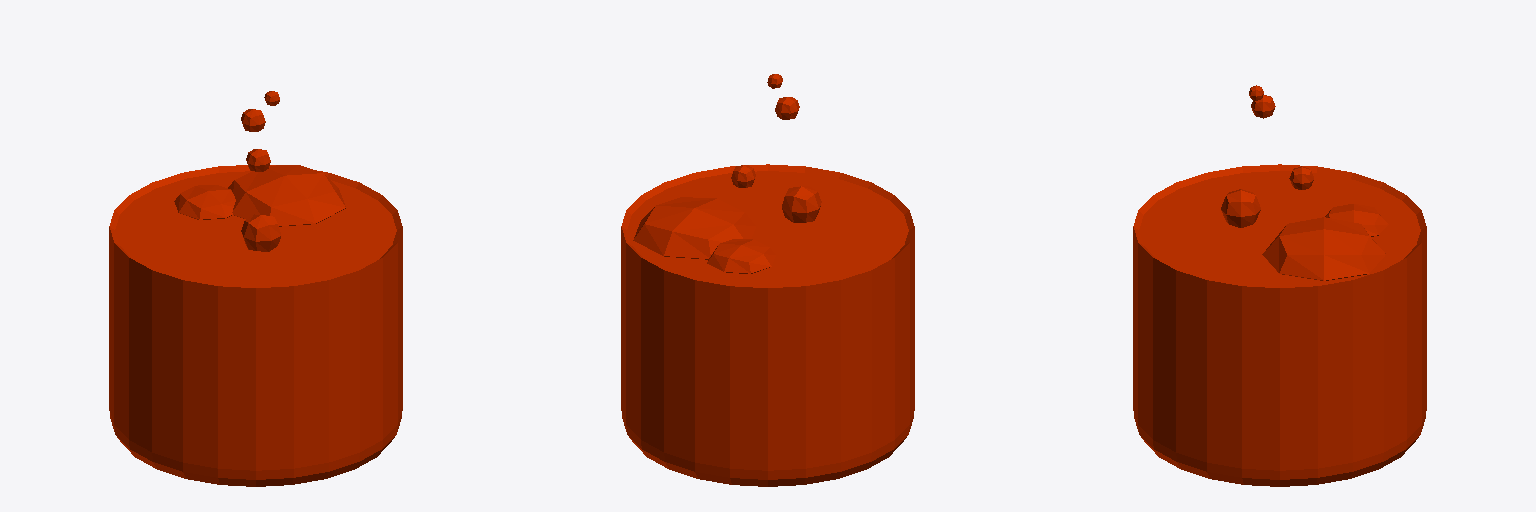
Rendered from Cork-Glass-Bottle-#3.obj.
The picture shows the model from 3 angles: view 1: azimuth 30°, elevation 25°; view 2: azimuth 150°, elevation 25°; view 3: azimuth 270°, elevation 25°; orthographic projection.
Parts seen in each view (by area): view 1: Liquid_Cylinder.002, Cube.003, Cube.005, Cube; view 2: Liquid_Cylinder.002, Cube.003, Cube.005, Cube; view 3: Liquid_Cylinder.002, Cube.003, Cube, Cube.005.
Part boxes in pixels (x1,y1,x2,y2): Liquid_Cylinder.002: (109,165,402,486); Cube.003: (228,165,345,226); Cube.005: (174,185,235,219); Cube: (241,214,281,251); Liquid_Cylinder.002: (621,164,914,486); Cube.003: (633,197,755,259); Cube.005: (707,239,775,273); Cube: (782,186,821,222); Liquid_Cylinder.002: (1133,164,1426,486); Cube.003: (1262,217,1385,280); Cube: (1221,189,1260,227); Cube.005: (1325,204,1388,236).
Size of the model in its own units: 5.37 by 6.96 by 5.37.